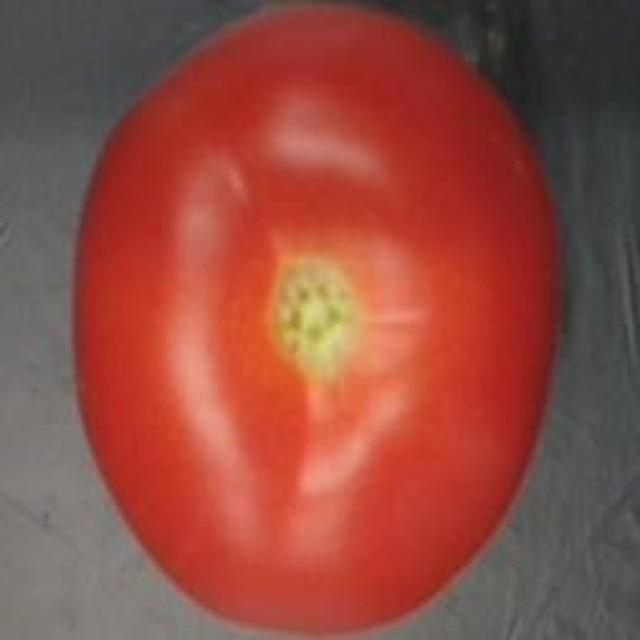ripe tomato: (58, 0, 577, 640)
